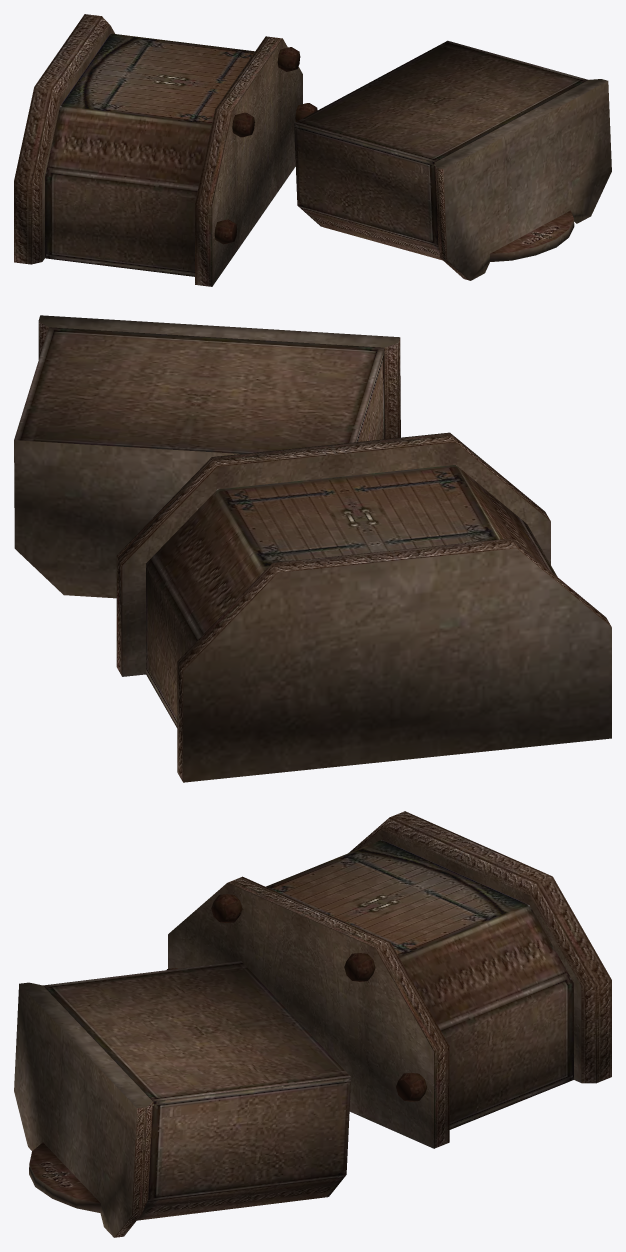
Rendered from KM_VOB_COF_BROKEN_CUPBOARD_02.glb.
The picture shows the model from 3 angles, top to bottom: view 1: azimuth 30°, elevation 25°; view 2: azimuth 150°, elevation 25°; view 3: azimuth 270°, elevation 25°; orthographic projection. The views are drawn at different scales.
Visible parts, largest first — view 1: Mesh; view 2: Mesh; view 3: Mesh.
Part boxes in pixels (<box>): Mesh: <box>14,14,611,286</box>; Mesh: <box>14,315,611,782</box>; Mesh: <box>14,811,611,1237</box>.
Size of the model in its own units: 3.27 by 0.9006 by 2.8.
Materials: 1 (1 with a texture image).
